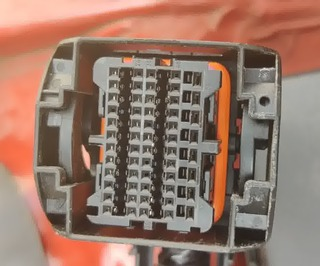connector: (34, 37, 282, 253)
